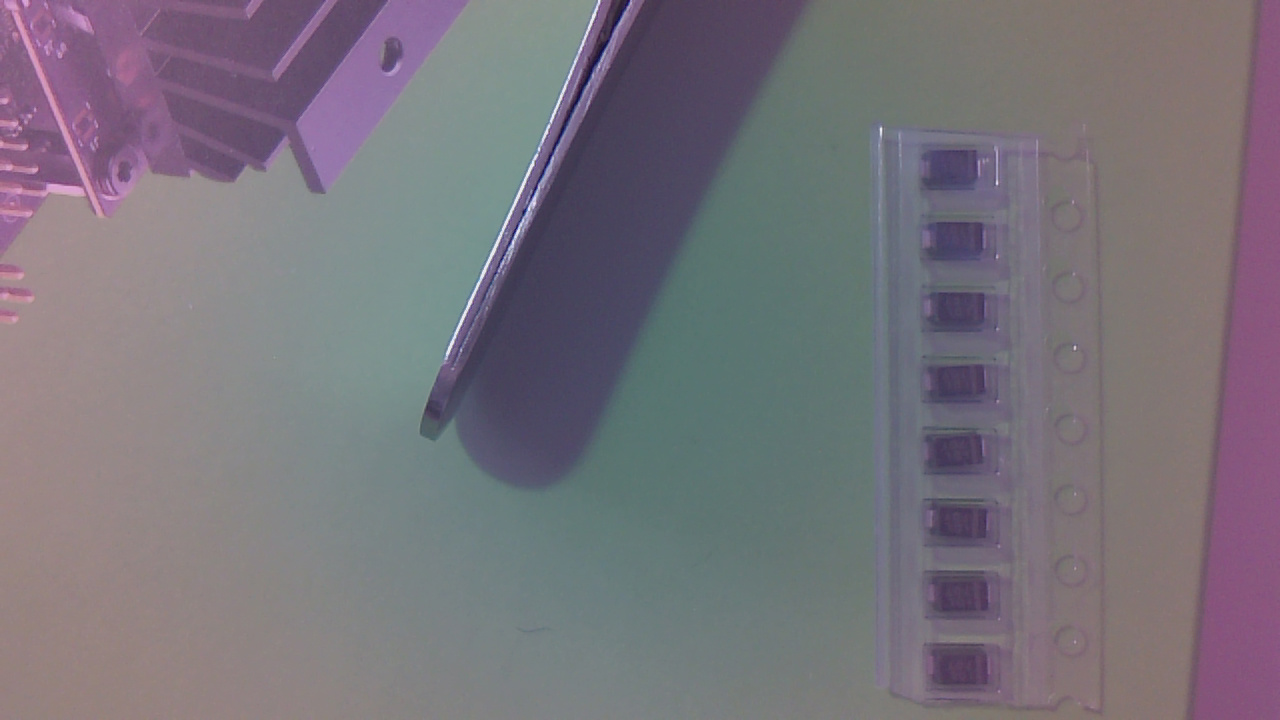Diode: (926, 223, 995, 265), (931, 648, 998, 690), (931, 577, 1000, 617), (928, 296, 999, 334), (925, 436, 994, 474), (925, 368, 996, 404), (929, 508, 998, 545), (924, 155, 989, 188)
